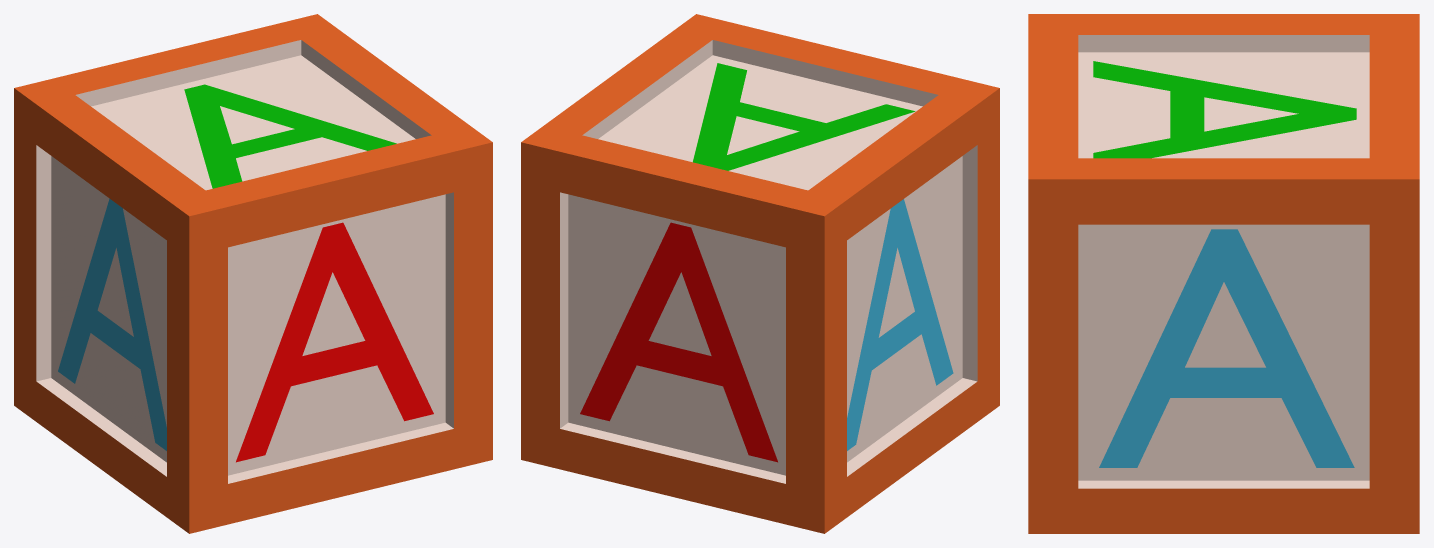
Rendered from Prop_KidsCube_A.fbx.
3 views of the same model, side by side, from view 1: azimuth 30°, elevation 25°; view 2: azimuth 150°, elevation 25°; view 3: azimuth 270°, elevation 25° (orthographic). The views are drawn at different scales.
Visible parts, largest first — view 1: Prop_KidsCube_A; view 2: Prop_KidsCube_A; view 3: Prop_KidsCube_A.
Part boxes in pixels (x1=…): Prop_KidsCube_A: x1=14, y1=14, x2=492, y2=533; Prop_KidsCube_A: x1=521, y1=14, x2=999, y2=533; Prop_KidsCube_A: x1=1028, y1=14, x2=1419, y2=533.
Size of the model in its own units: 20.92 by 20.92 by 20.92.
Materials: 1 (1 with a texture image).
